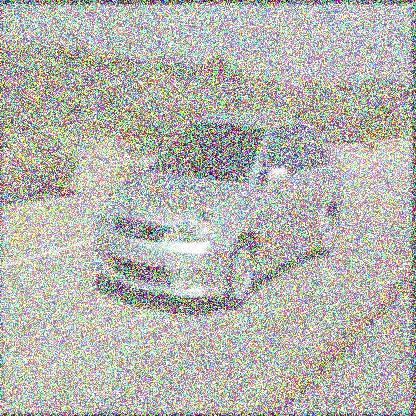Vehicle: (88, 109, 348, 312)
